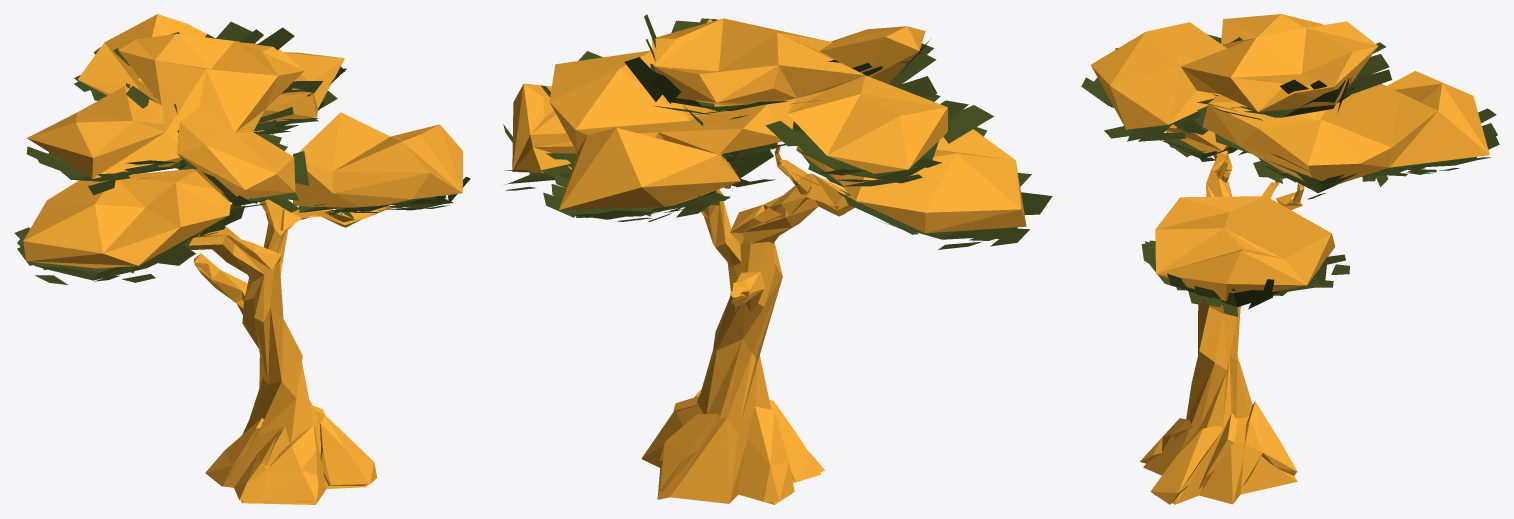
Rendered from SM_Tree_Juniper_Mature_A_Snow.fbx.
3 views of the same model, side by side, from view 1: azimuth 30°, elevation 25°; view 2: azimuth 150°, elevation 25°; view 3: azimuth 270°, elevation 25° (orthographic). The views are drawn at different scales.
Parts seen in each view (by area): view 1: tree-juniper-mature-a-snow; view 2: tree-juniper-mature-a-snow; view 3: tree-juniper-mature-a-snow.
Boxes of the visible parts, left/top/right/bottom form: tree-juniper-mature-a-snow: left=14, top=14, right=470, bottom=504; tree-juniper-mature-a-snow: left=503, top=14, right=1052, bottom=504; tree-juniper-mature-a-snow: left=1081, top=14, right=1499, bottom=504.
Size of the model in its own units: 4.28 by 3.83 by 3.54.
